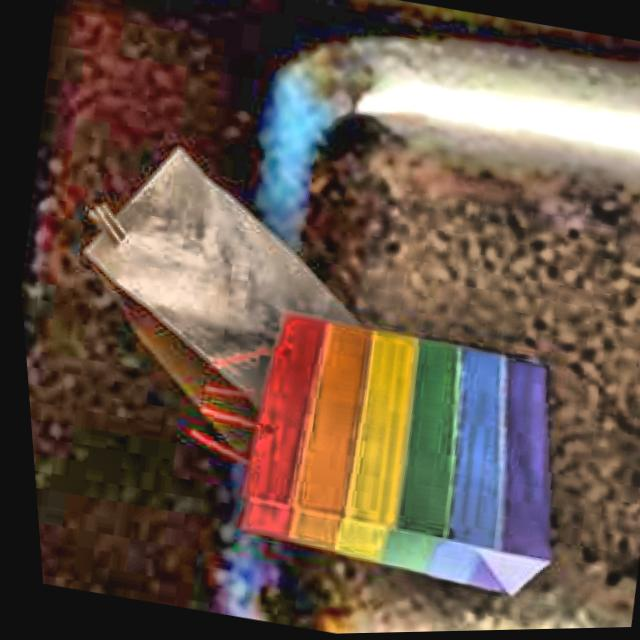Paper-bag: (180, 261, 603, 622), (36, 125, 445, 492)
